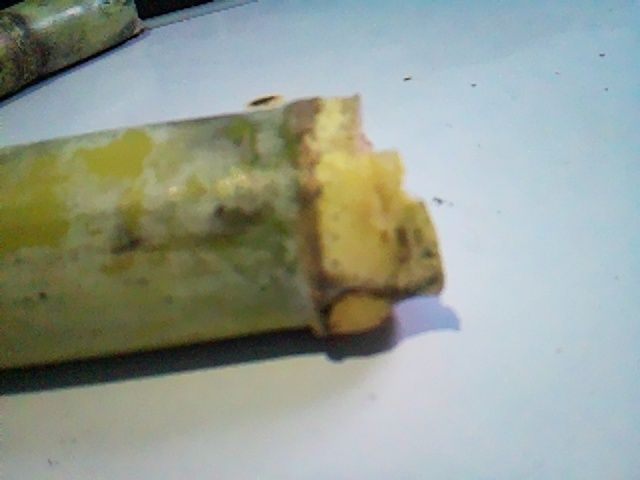Good Sugarcane: (2, 95, 441, 372), (0, 0, 149, 102)
Node: (254, 93, 390, 334)
